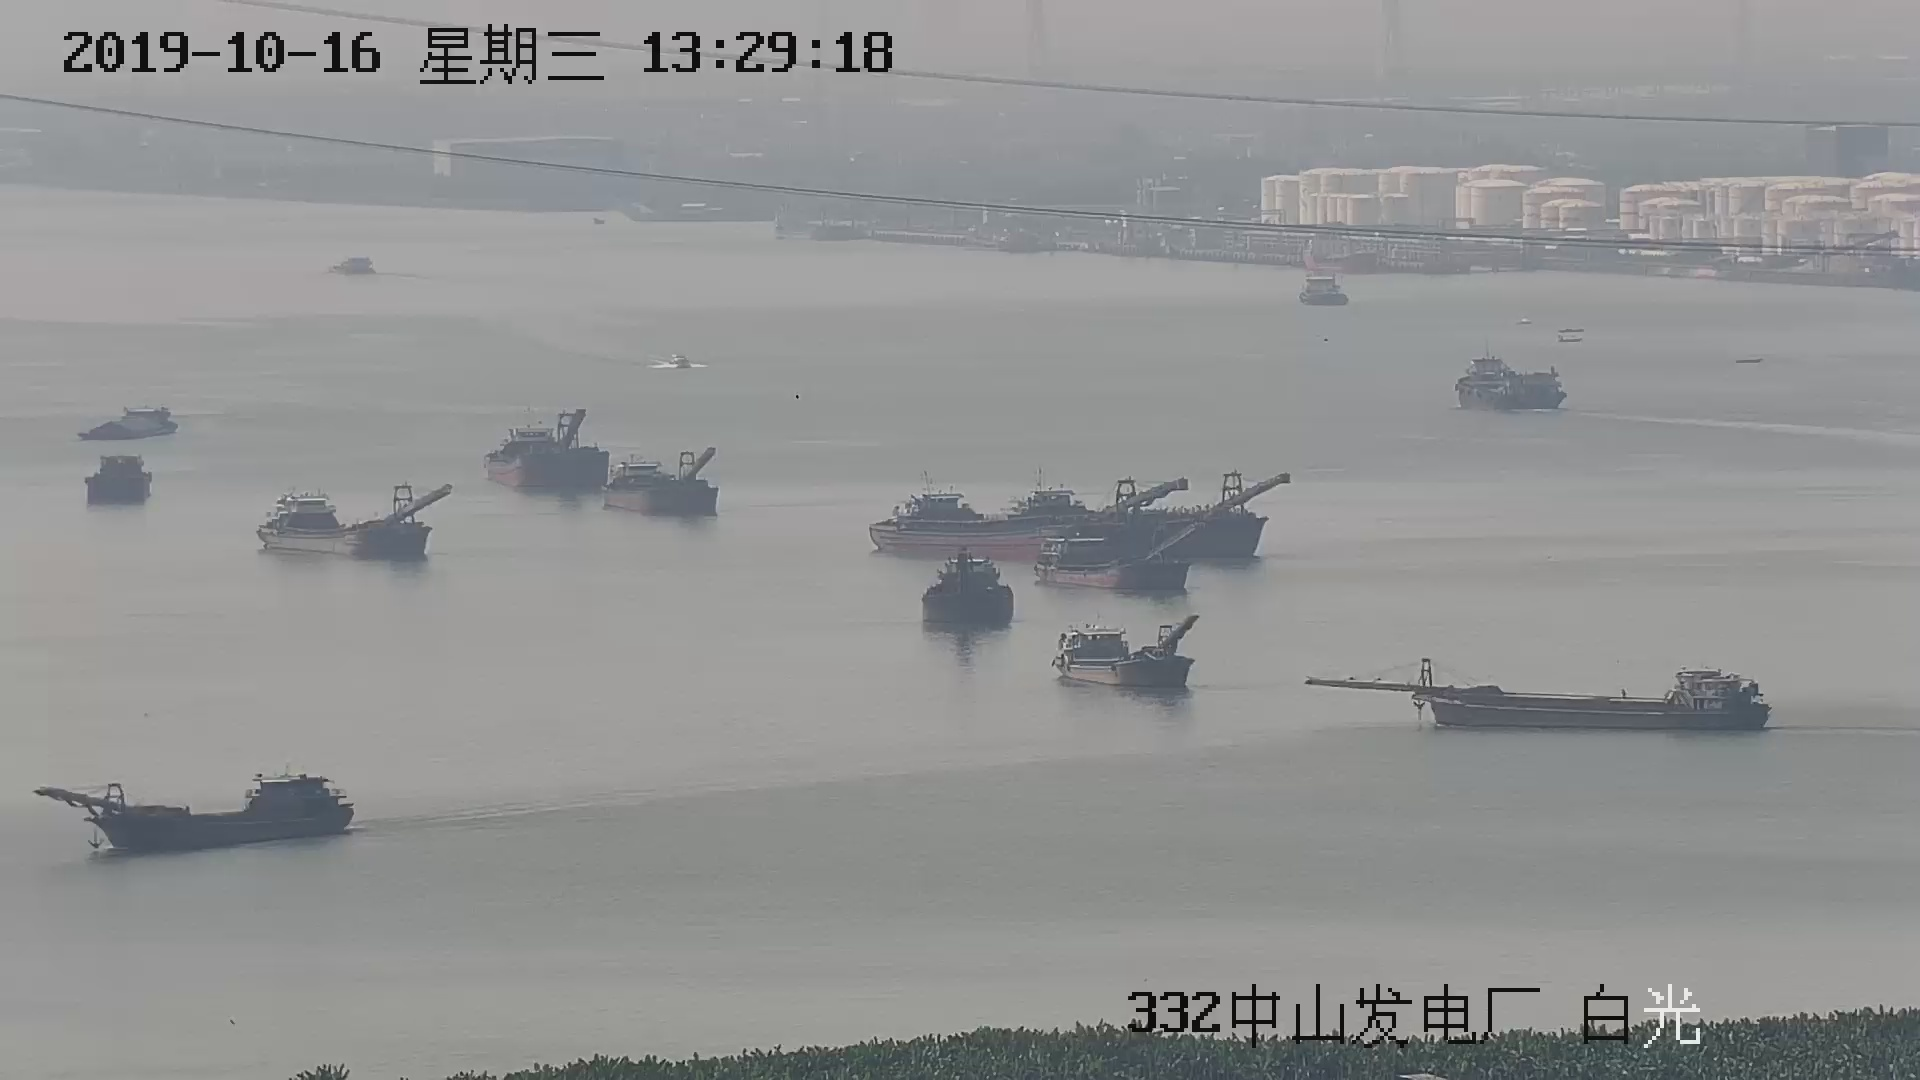ship: (1303, 657, 1774, 738), (32, 757, 360, 862), (1013, 473, 1279, 563), (258, 483, 451, 553), (866, 489, 1040, 555), (1054, 616, 1201, 692), (483, 407, 604, 495), (1031, 538, 1197, 593), (601, 447, 719, 513), (1455, 349, 1571, 414), (920, 554, 1015, 626), (83, 454, 148, 506), (80, 410, 179, 440)
